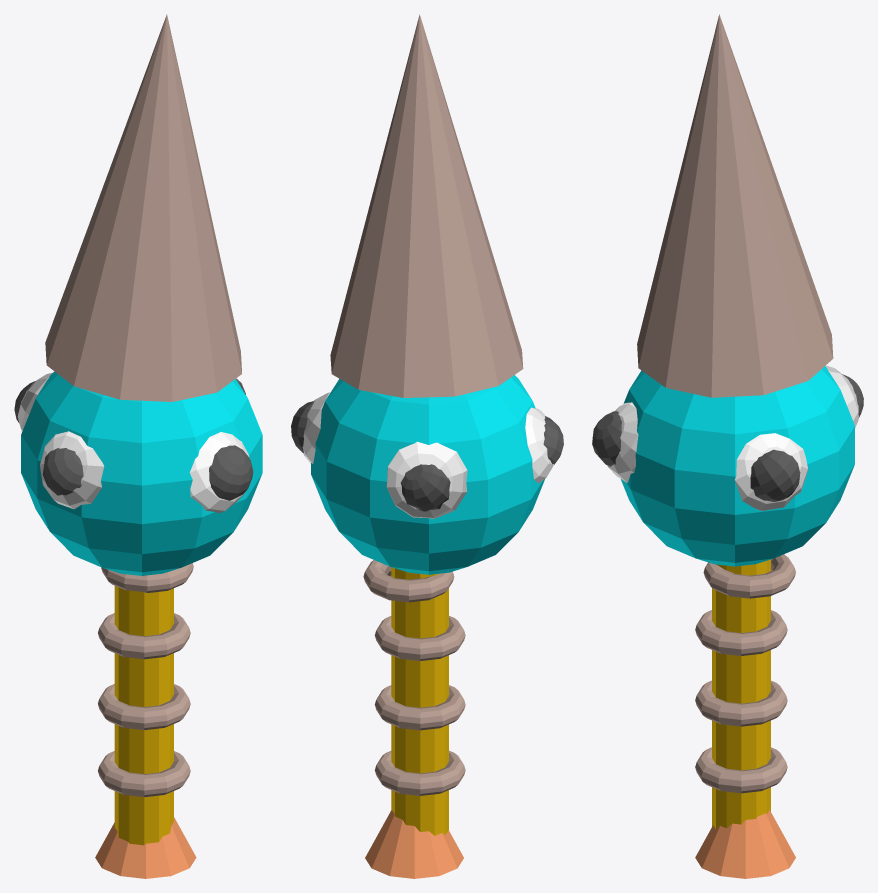
File: Jumper.dae
3 views of the same model, side by side, from view 1: azimuth 30°, elevation 25°; view 2: azimuth 150°, elevation 25°; view 3: azimuth 270°, elevation 25° (orthographic). The views are drawn at different scales.
Visible parts, largest first — view 1: Jumper; view 2: Jumper; view 3: Jumper.
Boxes of the visible parts, x1=… form: Jumper: x1=14, y1=14, x2=262, y2=878; Jumper: x1=291, y1=14, x2=563, y2=878; Jumper: x1=592, y1=14, x2=863, y2=878.
Bounding box in the file's own units: 0.3184 × 0.3229 × 1.11.
